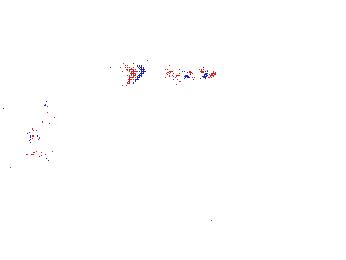X-ray fish: (14, 103, 61, 159)
redtail glassfish: (121, 58, 214, 87)
